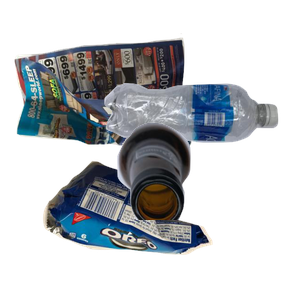glass: (115, 120, 300, 300)
paper: (12, 31, 196, 204)
plastic: (102, 81, 300, 216)
trash: (40, 158, 245, 300)
